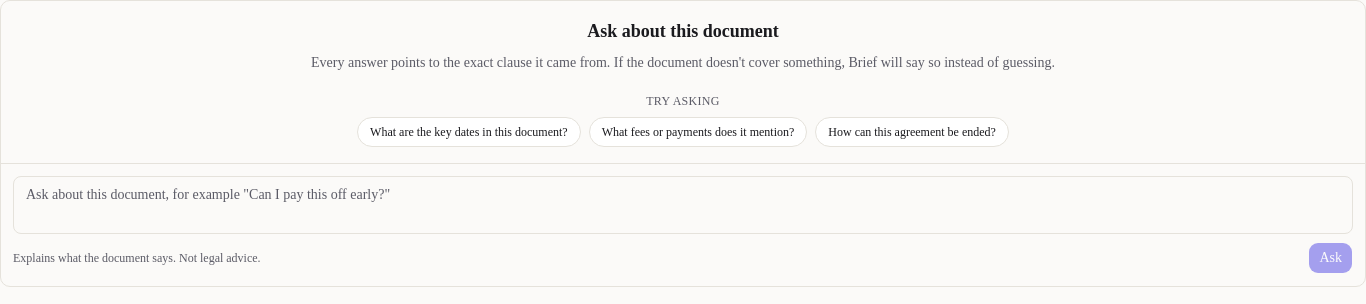
Scenario: ChatPanel › shows the reference code under the failure message, so a person can quote it
This screenshot has width=1366, height=304.
Type "Anything?" into the text box named "Your question" at (683, 205), box x1=13 y1=176 x2=1353 y2=234
Then press Enter
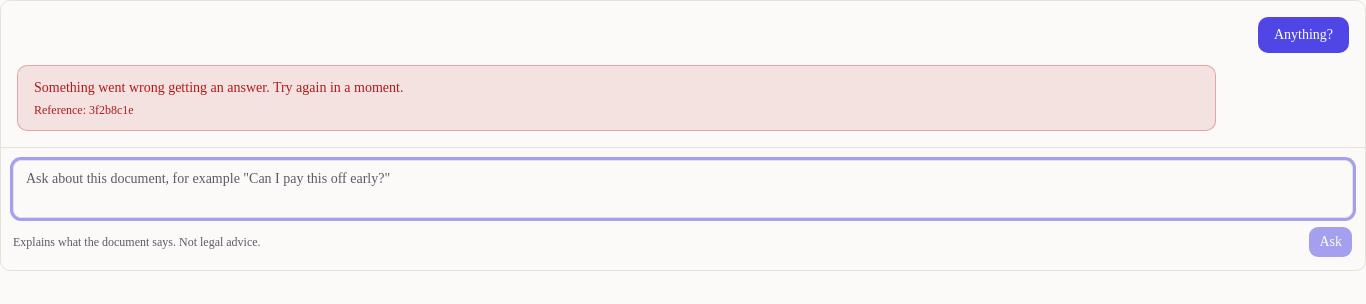
Now the text "Reference: 3f2b8c1e" is shown, box x1=34 y1=103 x2=134 y2=117
Now the text "Something went wrong getting an answer" is shown, box x1=34 y1=80 x2=403 y2=95
